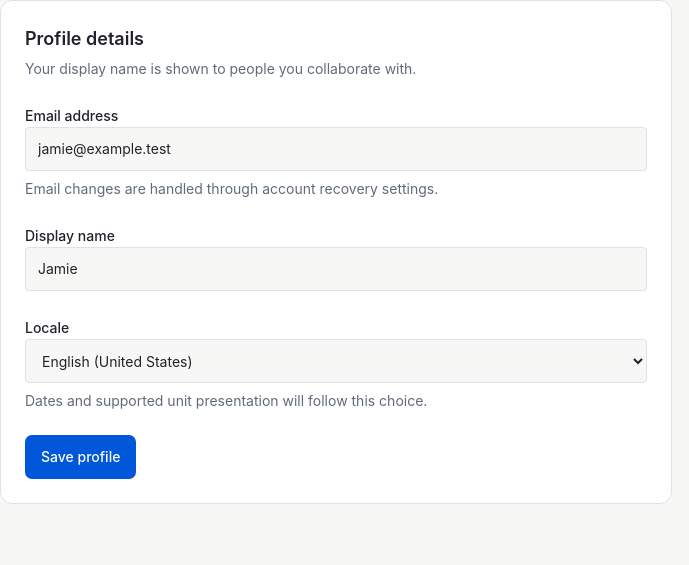
Test: AccountProfileForm › renders profile fields and saves the server-normalized response
Expected: the field labelled "Email address" holds "jamie@example.test", left=25, top=127, right=647, bottom=171
Expected: the dropdown labelled "Locale" shows "English (United States)", left=25, top=339, right=647, bottom=383
Replace the text in the field labelled "Display name" with "Jamie Lee": [336, 269] box left=25, top=247, right=647, bottom=291
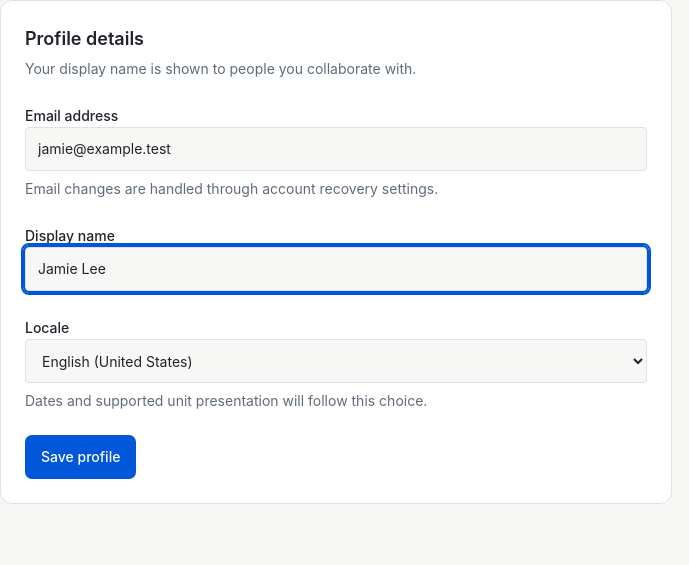
Select "Deutsch (Deutschland)" in the dropdown labelled "Locale": [336, 361] box left=25, top=339, right=647, bottom=383
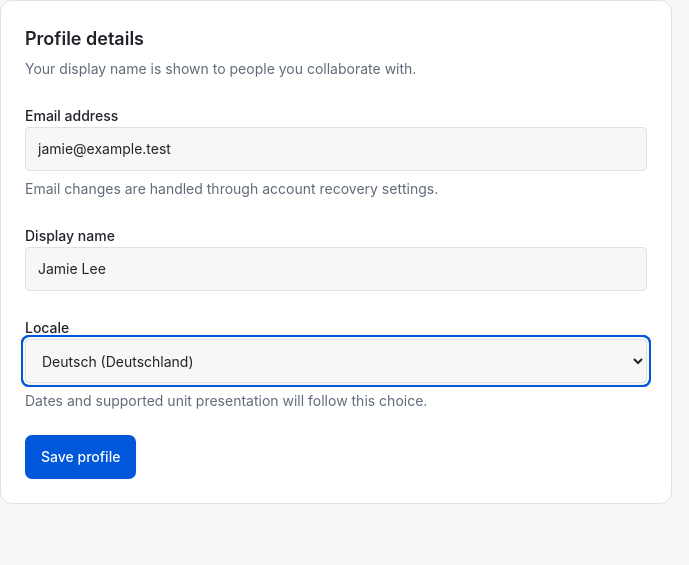
Click the button "Save profile": [81, 457] box left=25, top=435, right=136, bottom=479
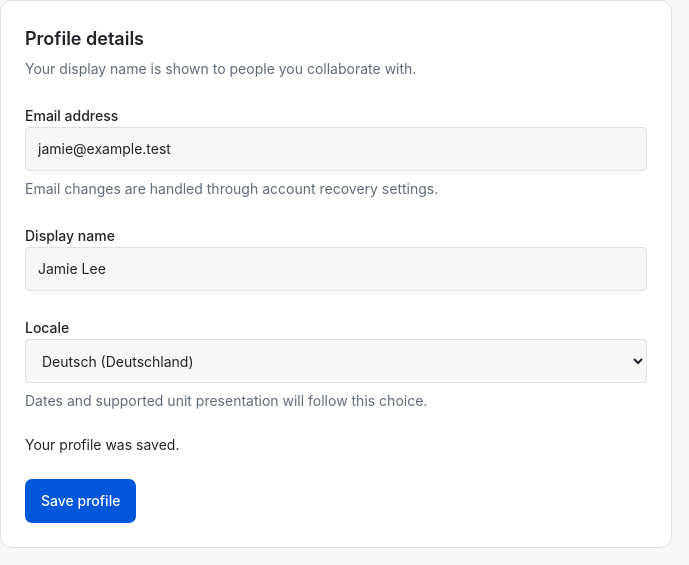
Result: the message reads "Your profile was saved." at left=25, top=436, right=179, bottom=453
